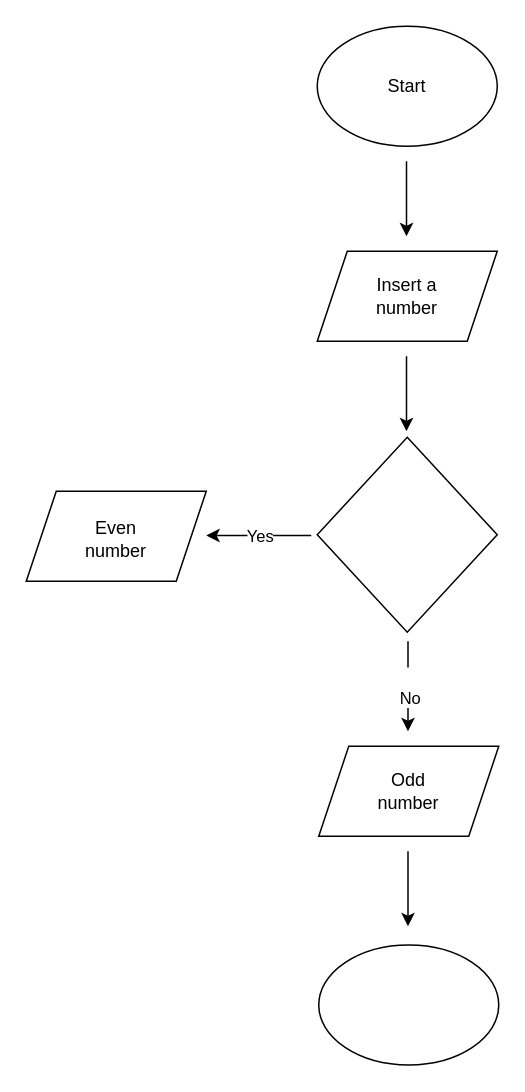
Image size: 525x1092. Some labels were removed from this diagram. The box of each missing label's shape, as (x1, y1, x2, y2) in pixels:
End: (317, 944, 499, 1065)
If the number is divisible by 2: (316, 436, 497, 632)
